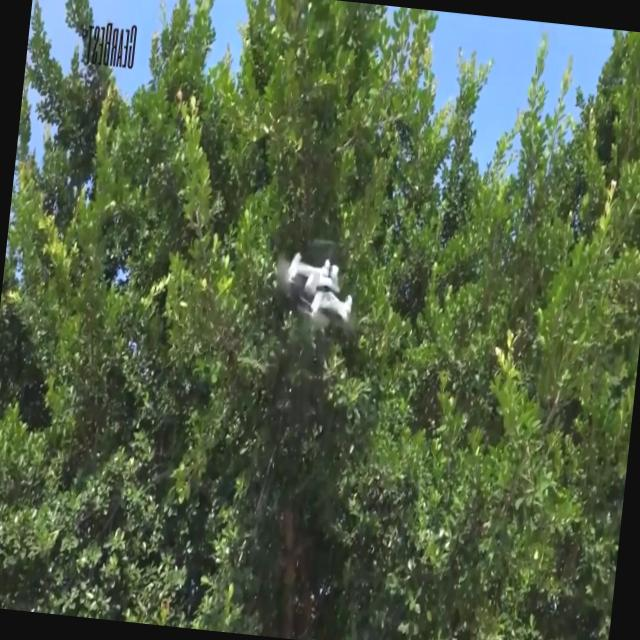drone: (278, 232, 362, 334)
